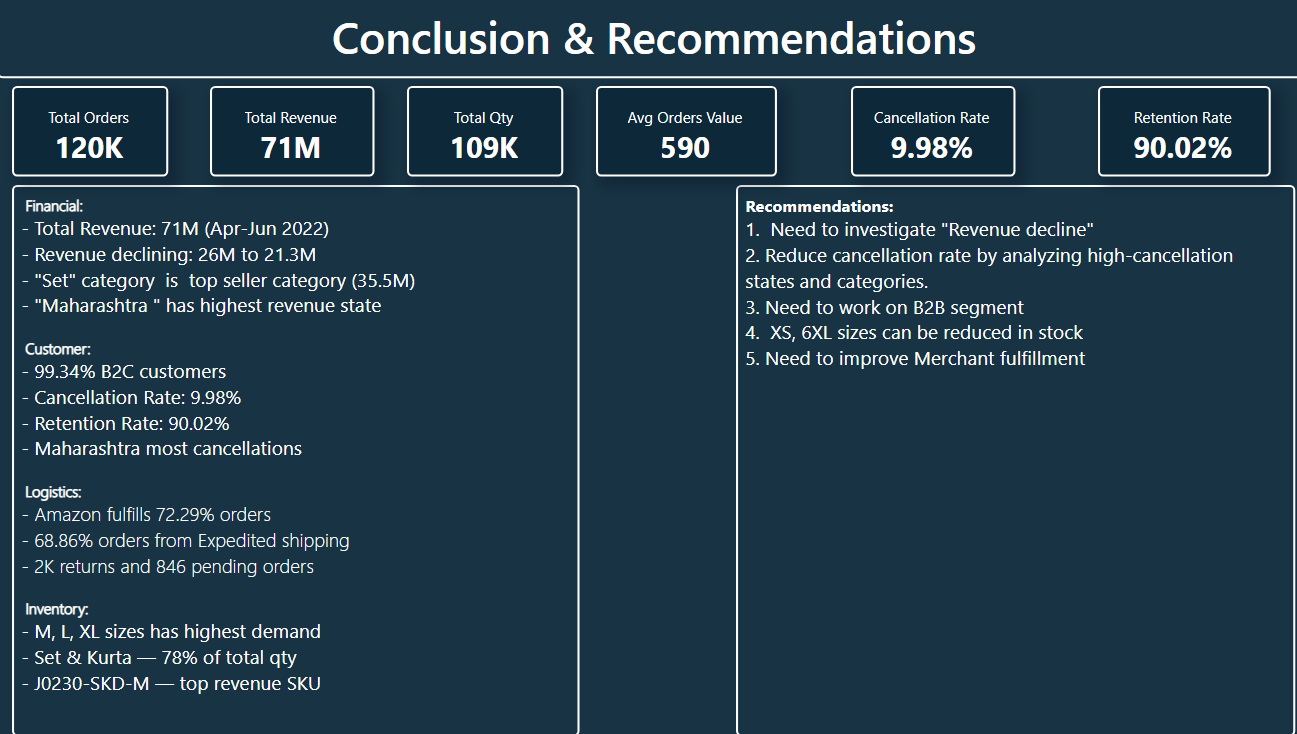

Layout of this report page (visuals, bound fields, positions):
{"tool":"powerbi","page":{"name":"Key findings","canvas":[1280,720],"ordinal":3},"visuals":[{"type":"textbox","box":[16,184,552,536],"z":0},{"type":"textbox","box":[720,184,544,536],"z":1000},{"type":"textbox","box":[0,0,1280,80],"z":2000},{"type":"cardVisual","fields":{"Data":["Table.Total_rev"]},"box":[208,88,160,88],"z":3000},{"type":"cardVisual","fields":{"Data":["Table.Total Qty"]},"box":[400,88,152,88],"z":4000},{"type":"cardVisual","fields":{"Data":["Table.Total_orders"]},"box":[16,88,152,88],"z":5000},{"type":"cardVisual","fields":{"Data":["Measure.Avg Orders"]},"box":[584,88,176,88],"z":6000},{"type":"cardVisual","fields":{"Data":["Measure.Canellation Rate"]},"box":[832,88,160,88],"z":7000},{"type":"cardVisual","fields":{"Data":["Measure.Retention Rate"]},"box":[1072,88,168,88],"z":8000}]}

Visuals, with their boxes in screenshot pixels (x1, y1, x2, y2), scaled from the page's 1280x720 canvas onto the 1297x734 screenshot:
textbox: 16, 188, 576, 733
textbox: 730, 188, 1281, 733
textbox: 0, 0, 1296, 82
cardVisual - Table.Total_rev: 211, 90, 373, 179
cardVisual - Table.Total Qty: 405, 90, 559, 179
cardVisual - Table.Total_orders: 16, 90, 170, 179
cardVisual - Measure.Avg Orders: 592, 90, 770, 179
cardVisual - Measure.Canellation Rate: 843, 90, 1005, 179
cardVisual - Measure.Retention Rate: 1086, 90, 1256, 179
